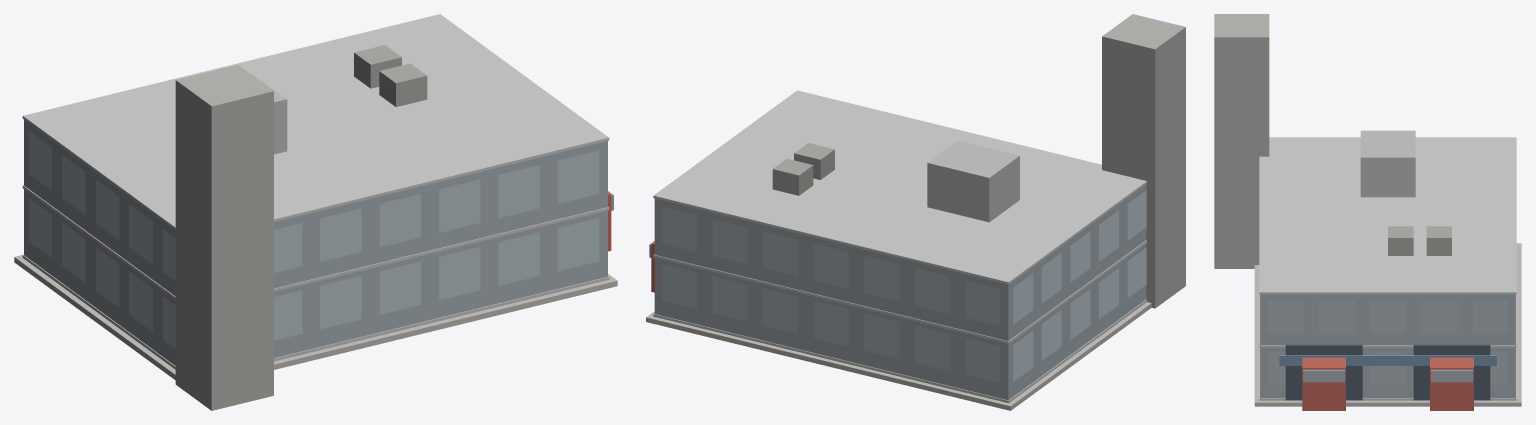
File: 14_public_services-03.glb
3 renders of one model, left to right at view 1: azimuth 30°, elevation 25°; view 2: azimuth 150°, elevation 25°; view 3: azimuth 270°, elevation 25°, orthographic. The views are drawn at different scales.
Size of the model in its own units: 22.15 by 14 by 16.8.
